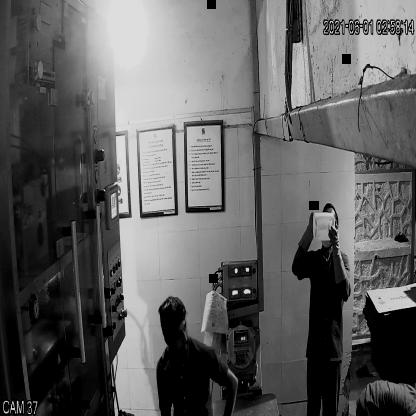no_goggles: (158, 322, 191, 347)
